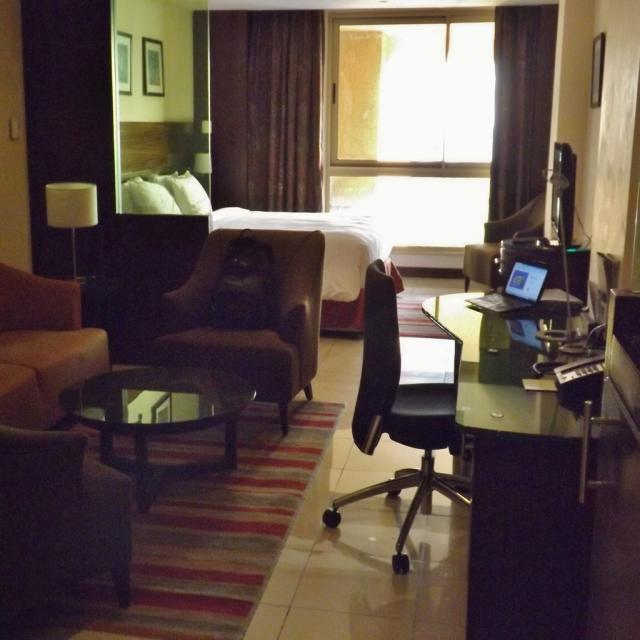chair: (322, 259, 473, 573), (134, 226, 325, 435), (0, 422, 134, 635), (463, 192, 548, 290)
desk: (424, 293, 640, 639)
laptop: (466, 260, 550, 314)
tv: (603, 287, 640, 445)
